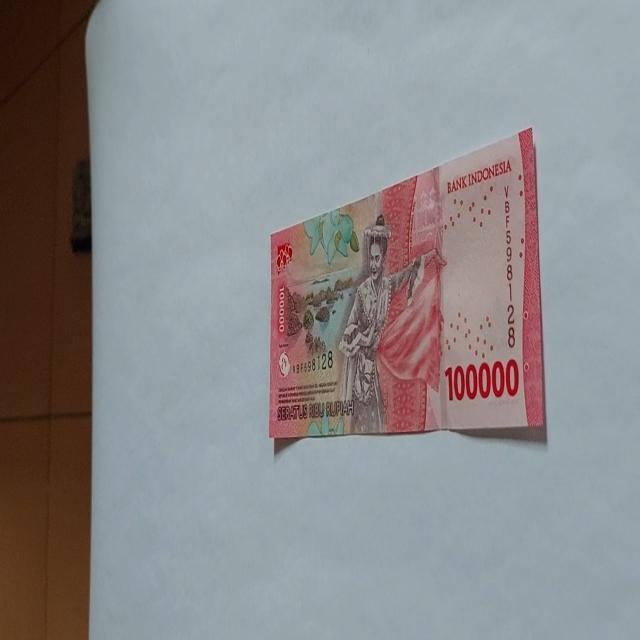seratus ribu rupiah: (268, 126, 546, 444), (336, 212, 426, 433)
